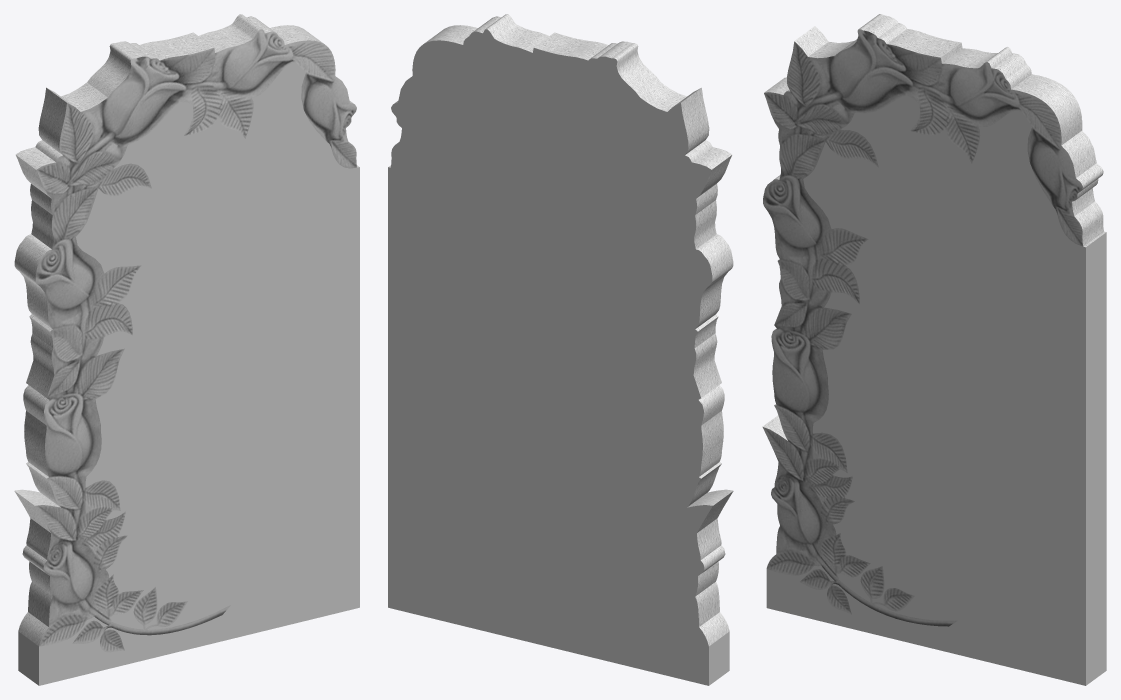
The model's file is cn8f5ddd9366_tkf.glb.
The picture shows the model from 3 angles, left to right: view 1: azimuth 30°, elevation 25°; view 2: azimuth 150°, elevation 25°; view 3: azimuth 330°, elevation 25°; orthographic projection.
Parts seen in each view (by area): view 1: Pam-d01-231, Pam-d01-231_2_notexture; view 2: Pam-d01-231, Pam-d01-231_2_notexture; view 3: Pam-d01-231, Pam-d01-231_2_notexture.
Boxes of the visible parts, x1,y1,x2,y2 form: Pam-d01-231: [18, 62, 359, 685]; Pam-d01-231_2_notexture: [14, 14, 359, 652]; Pam-d01-231: [388, 29, 729, 685]; Pam-d01-231_2_notexture: [388, 14, 733, 645]; Pam-d01-231: [766, 95, 1106, 685]; Pam-d01-231_2_notexture: [762, 14, 1106, 626].
Size of the model in its own units: 0.45 by 0.8 by 0.05.
Materials: 1 (1 with a texture image).
